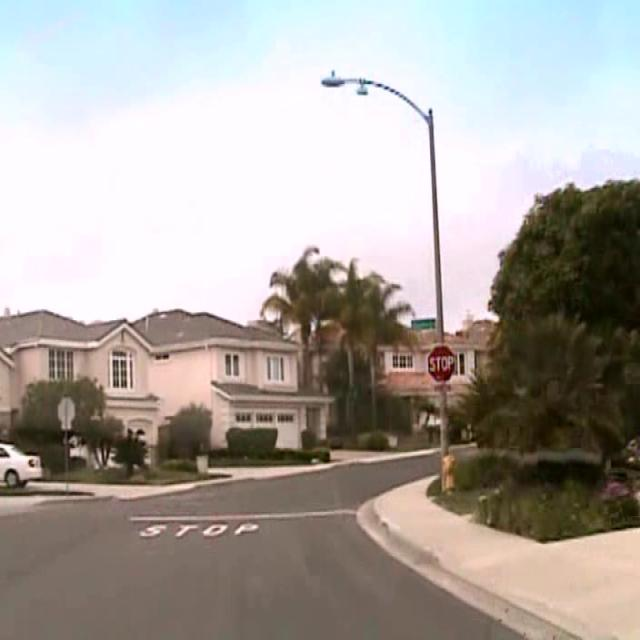stop: (428, 344, 456, 383)
